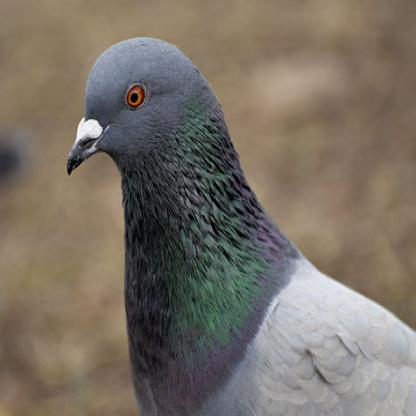Flying Rat: (63, 38, 416, 416)
